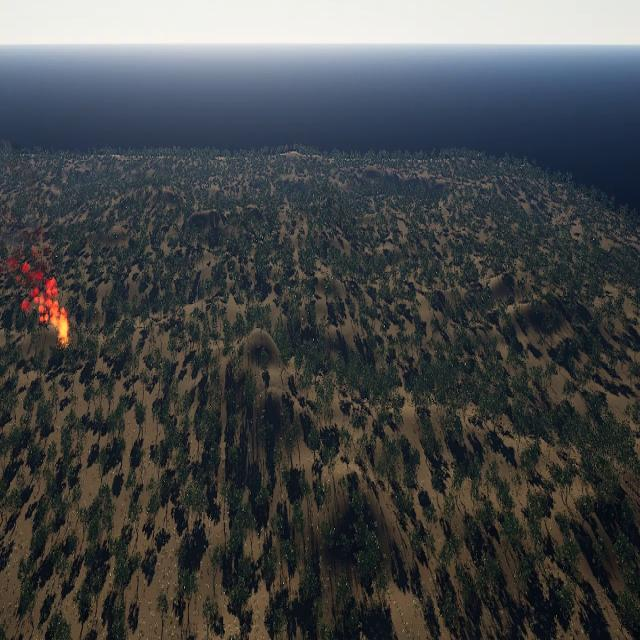fire: (59, 312, 70, 343)
smoke: (1, 242, 66, 333)
